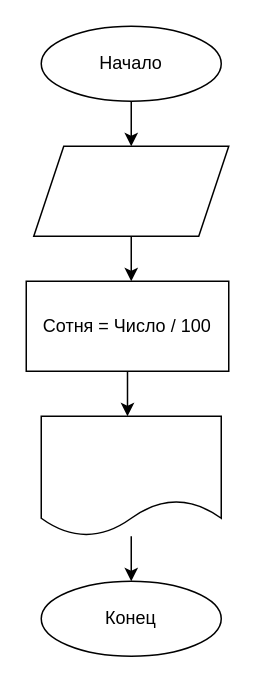
Image size: 255x683. Some labels were removed from this diagram. The shapes that lost their labels are listed below. From the top down, each one's centre as x and y in pixels, then its label:
pixel 130 190: Число = 256
pixel 130 475: Число = 256 Сотня = 2
